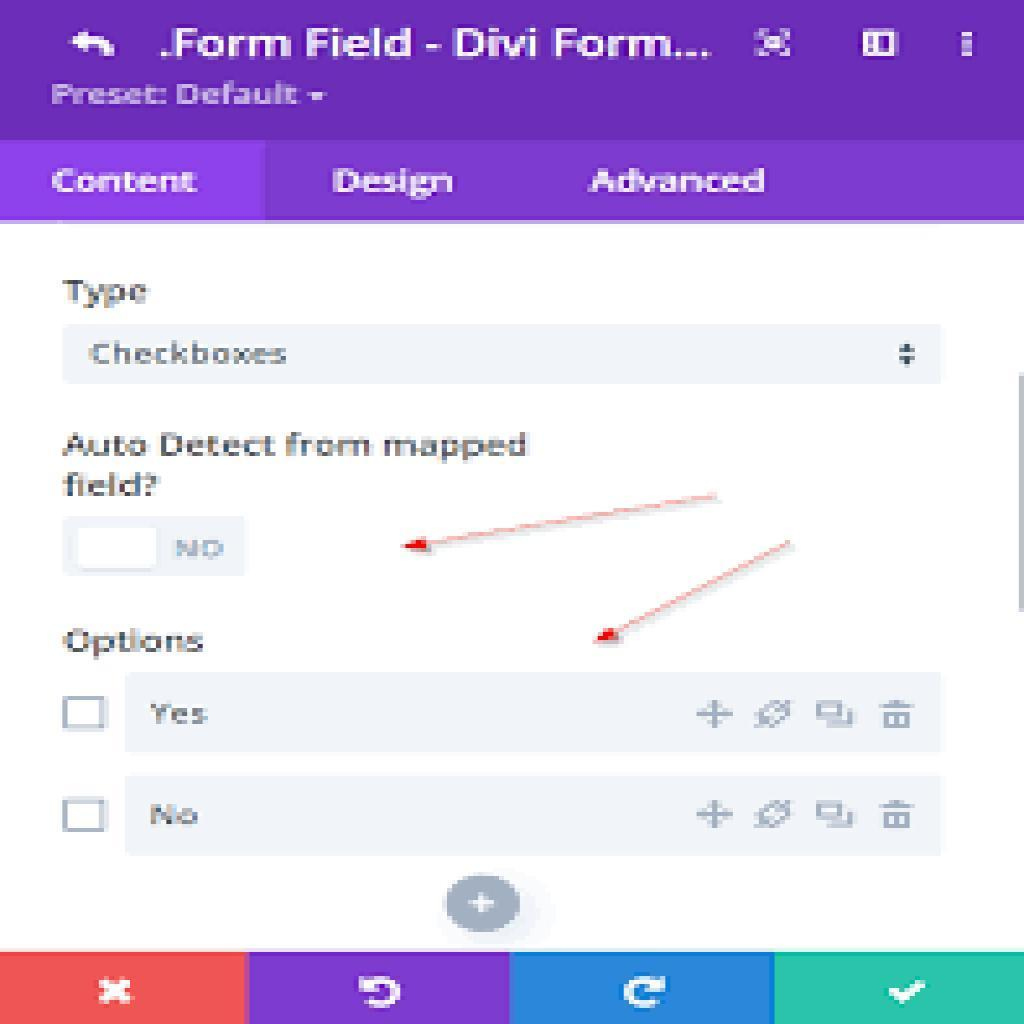button: (2, 140, 267, 222), (247, 951, 512, 1024), (514, 951, 777, 1024), (1, 952, 249, 1024), (779, 952, 1024, 1024)
checkbox: (64, 798, 109, 834), (63, 696, 107, 732)
dropdown: (64, 325, 945, 386)
icon: (444, 875, 522, 934), (68, 24, 121, 66), (812, 697, 859, 736), (751, 25, 794, 62), (752, 698, 797, 732), (877, 697, 918, 732), (695, 797, 736, 832), (695, 698, 737, 732), (877, 797, 917, 832), (754, 797, 795, 831), (815, 798, 857, 830), (862, 28, 898, 59), (960, 28, 976, 62)
label: (61, 431, 531, 501), (158, 24, 723, 65), (585, 164, 773, 202), (61, 622, 209, 661), (328, 164, 461, 203), (61, 274, 152, 311), (144, 698, 215, 734), (142, 801, 206, 834)
